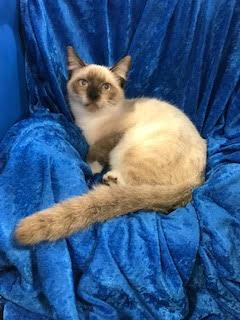siamese: (56, 35, 138, 126)
